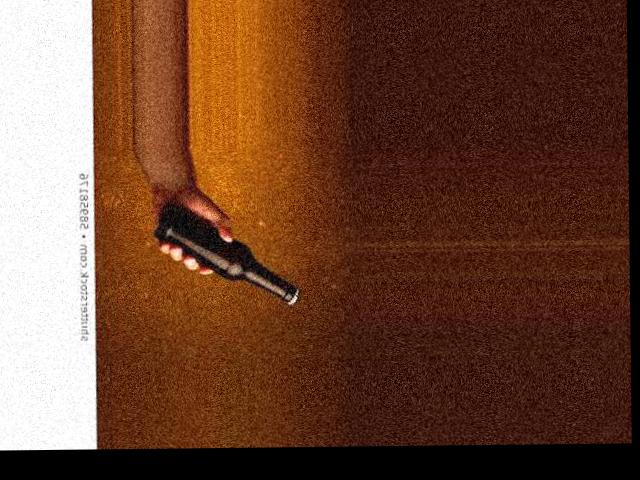beer: (153, 198, 300, 307)
